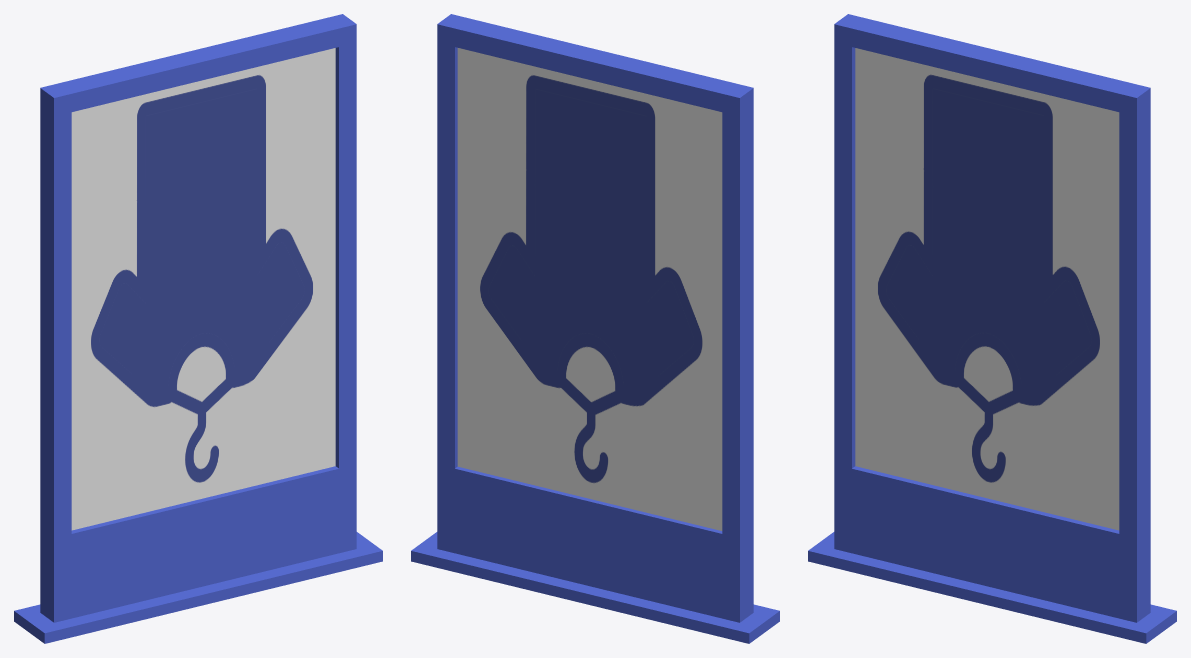
The model's file is banner_stand1.fbx.
3 renders of one model, left to right at view 1: azimuth 30°, elevation 25°; view 2: azimuth 150°, elevation 25°; view 3: azimuth 330°, elevation 25°, orthographic.
Parts seen in each view (by area): view 1: banner1; view 2: banner1; view 3: banner1.
Part boxes in pixels (box(x1,y1,x2,y2)): banner1: box(14, 14, 382, 643); banner1: box(411, 14, 779, 643); banner1: box(808, 14, 1176, 643).
Size of the model in its own units: 3.02 by 4.57 by 0.4756.
